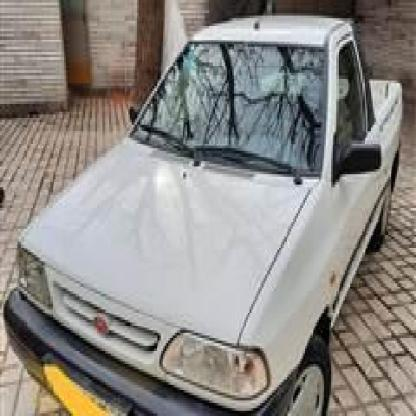Car: (15, 23, 400, 416)
